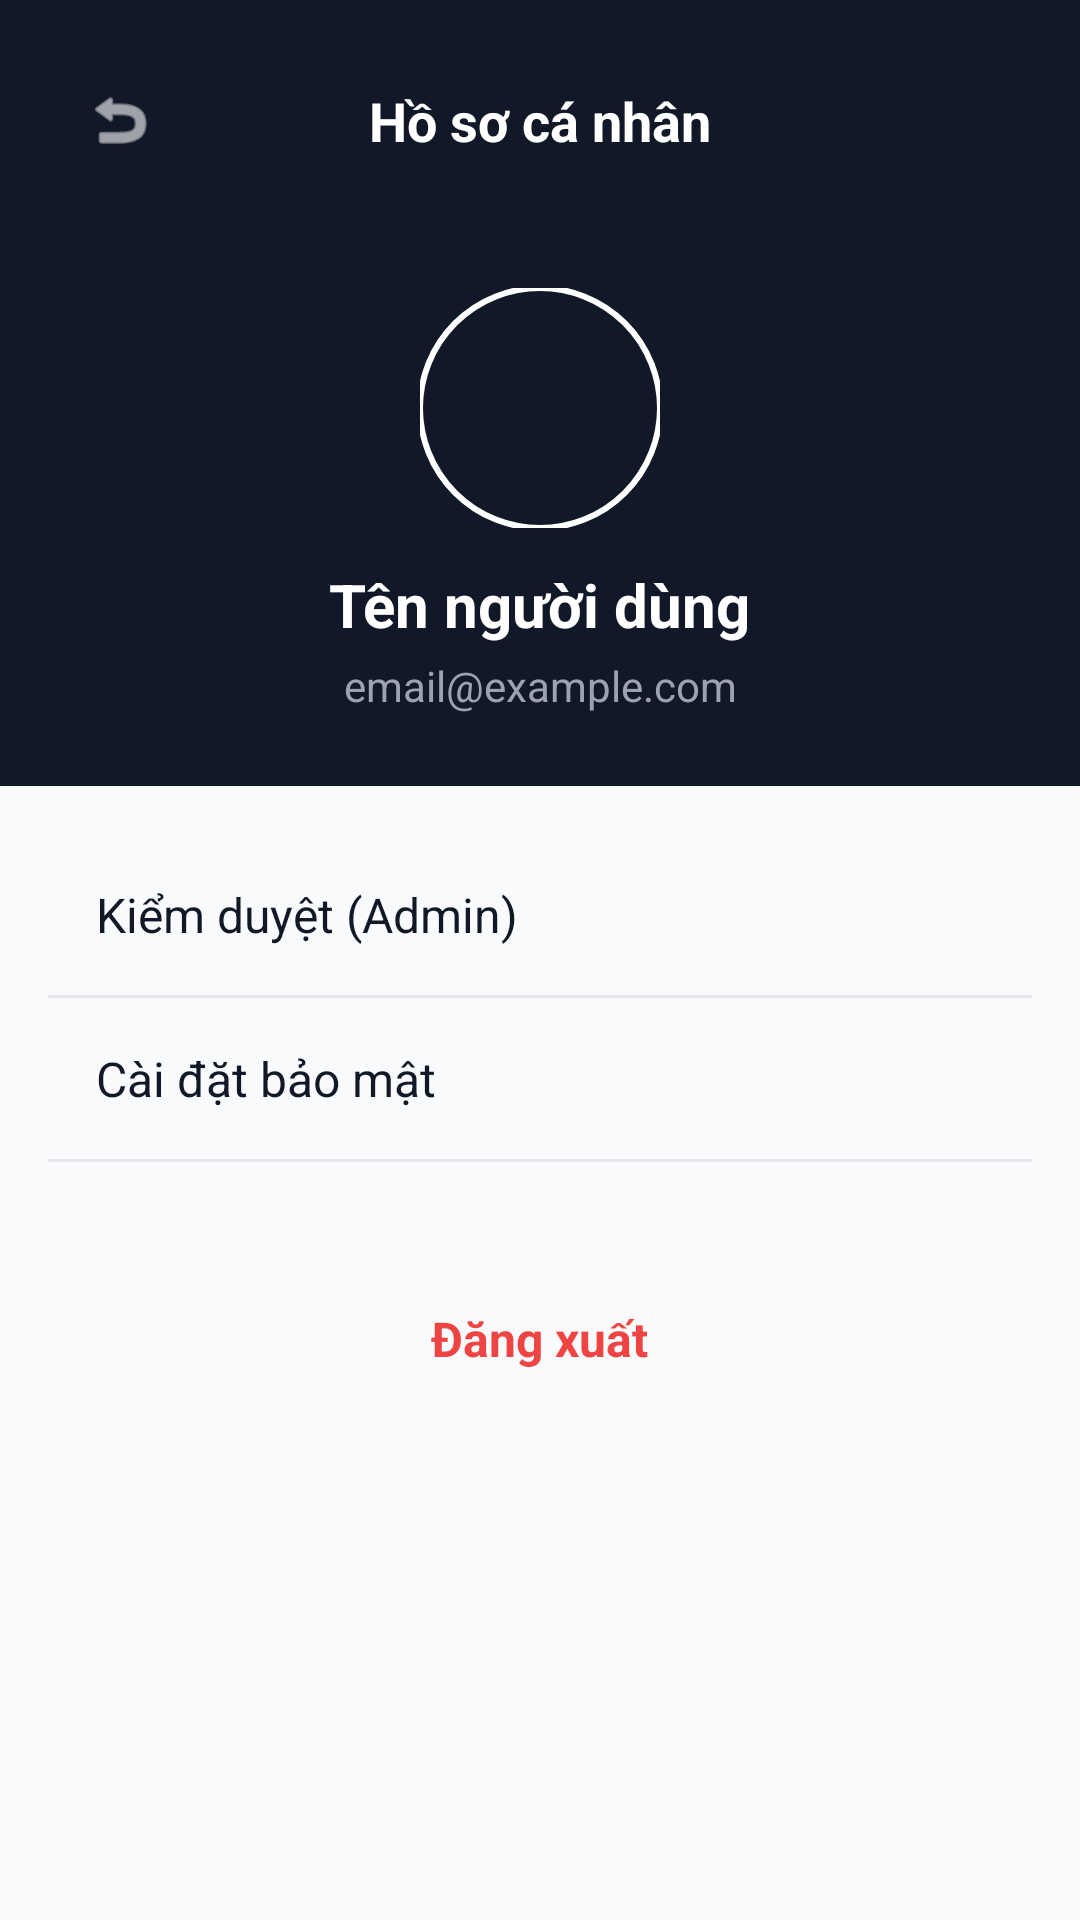

Named icons in this screenshot (1080 × 1920) and their bounding boxes, (x1, y1, x2, y2):
Quay lại: (95, 97, 147, 144)
